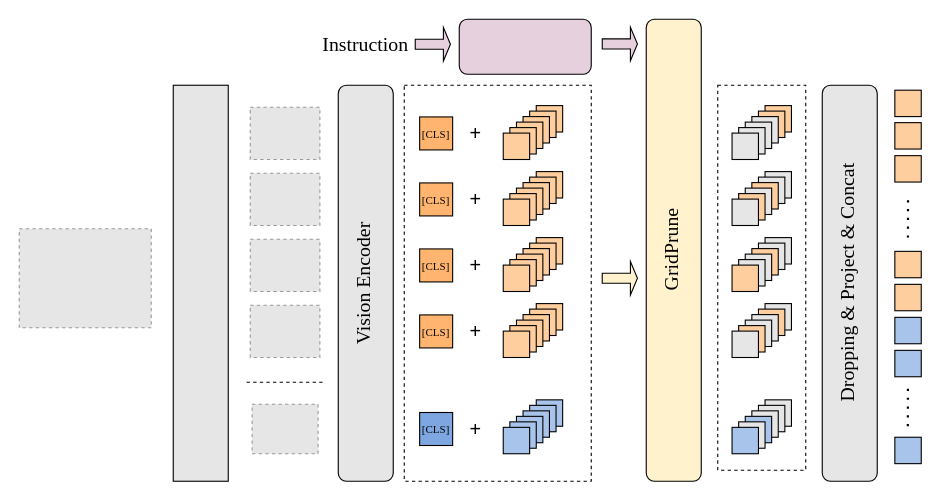
Some shapes in this 941 by 501 pixel diagram are drawn without their labels. Grey dashed boxes stand in for pictures. Here are the shapes that lost their labels. From the top down, the centre of each, then its label:
At (524,46): "Text Encoder".
At (200,282): "Dynamic Cropping".
